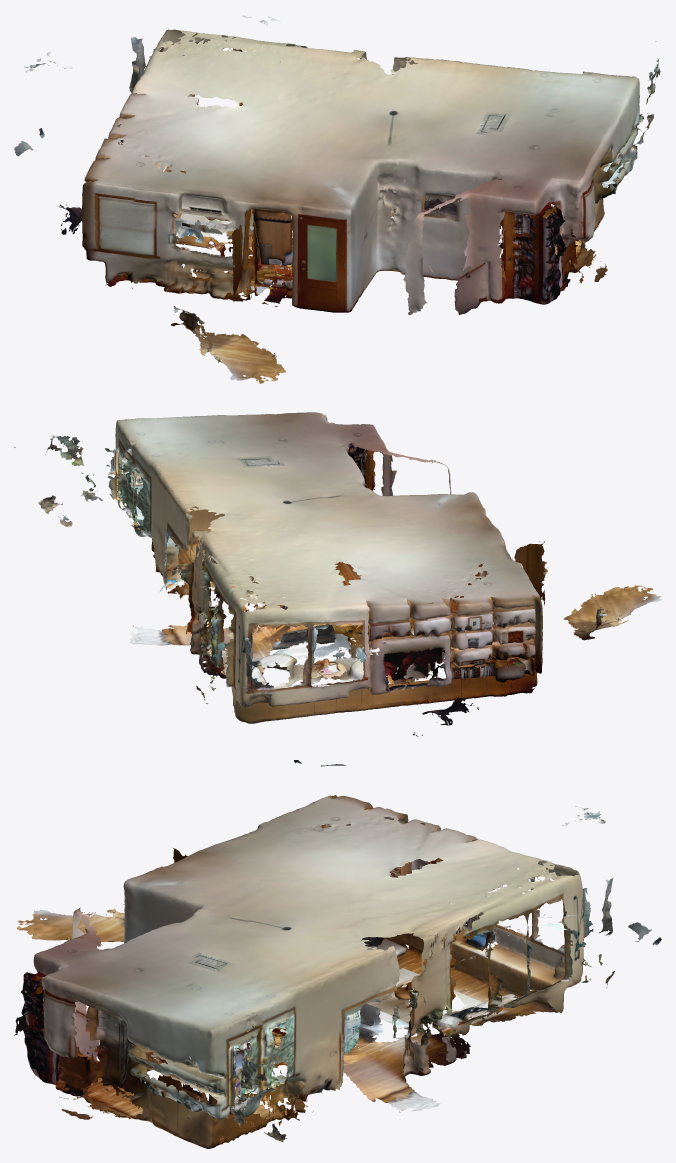
Rendered from FBX_Animationtest_loop.fbx.
3 renders of one model, top to bottom at view 1: azimuth 30°, elevation 25°; view 2: azimuth 150°, elevation 25°; view 3: azimuth 270°, elevation 25°, orthographic. The views are drawn at different scales.
Visible parts, largest first — view 1: textured; view 2: textured; view 3: textured.
Boxes of the visible parts, bbox=[...] form: textured: bbox=[14, 14, 661, 383]; textured: bbox=[14, 412, 661, 766]; textured: bbox=[14, 795, 661, 1148].
Bounding box in the file's own units: 1299 × 318 × 1193.
